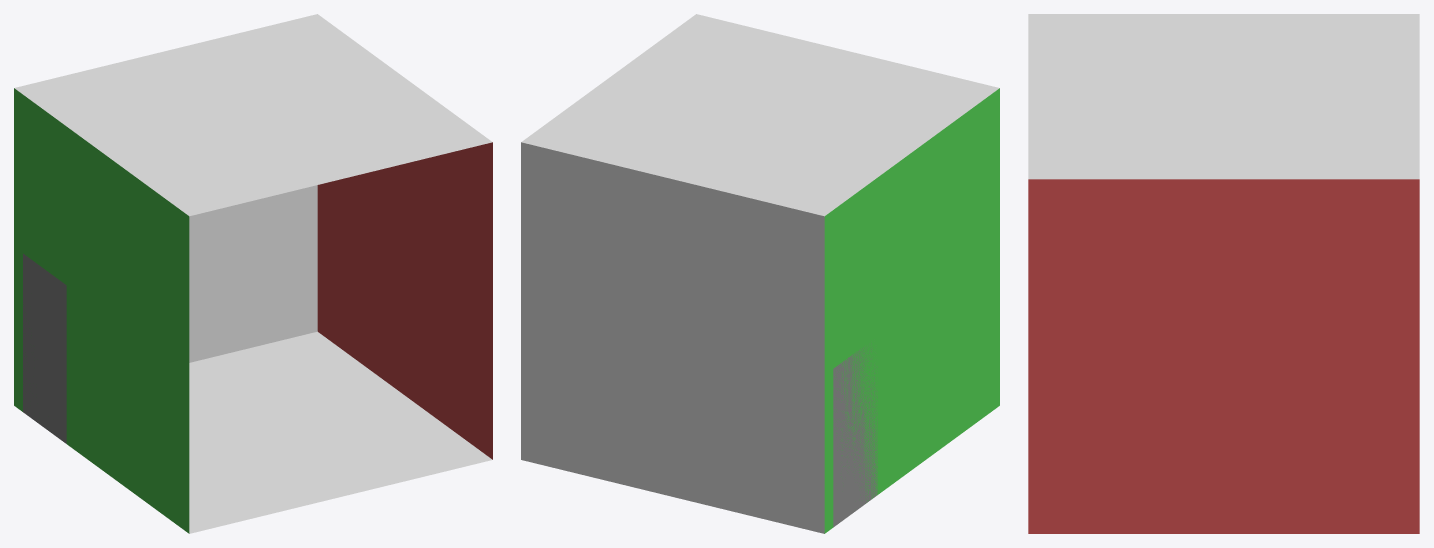
File: transBoxCornellEmitter.gltf
3 renders of one model, left to right at view 1: azimuth 30°, elevation 25°; view 2: azimuth 150°, elevation 25°; view 3: azimuth 270°, elevation 25°, orthographic. The views are drawn at different scales.
Visible parts, largest first — view 1: Ceil, LeftWall, RightWall, Floor, BackWall, Cube; view 2: BackWall, LeftWall, Ceil, Cube; view 3: RightWall, Ceil.
Boxes of the visible parts, x1=… form: Ceil: x1=14, y1=14, x2=492, y2=216; LeftWall: x1=14, y1=88, x2=189, y2=533; RightWall: x1=317, y1=142, x2=492, y2=459; Floor: x1=189, y1=331, x2=492, y2=533; BackWall: x1=189, y1=185, x2=317, y2=362; Cube: x1=23, y1=253, x2=66, y2=443; BackWall: x1=521, y1=142, x2=824, y2=533; LeftWall: x1=824, y1=88, x2=999, y2=533; Ceil: x1=521, y1=14, x2=999, y2=216; Cube: x1=833, y1=343, x2=877, y2=527; RightWall: x1=1028, y1=179, x2=1419, y2=533; Ceil: x1=1028, y1=14, x2=1419, y2=179.
Size of the model in its own units: 4 by 4 by 4.
